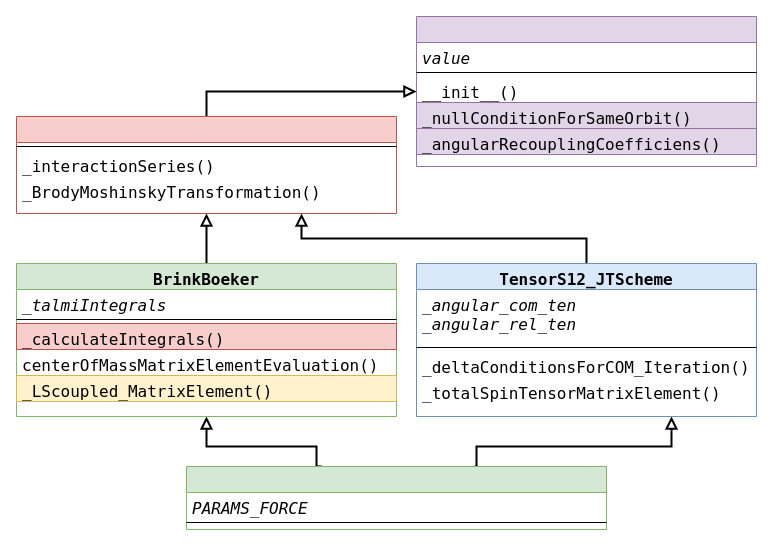
Some shapes in this 773 by 546 pixel diagram are drawn without their labels. The box of each missing label's shape, as (x1, y1, x2, y2) in pixels:
_TwoBodyMatrixElement_JTCoupled: (416, 16, 756, 166)
TalmiTransformation: (16, 116, 396, 214)
YukawiansM3Y_tensor_JTScheme: (186, 466, 606, 530)
